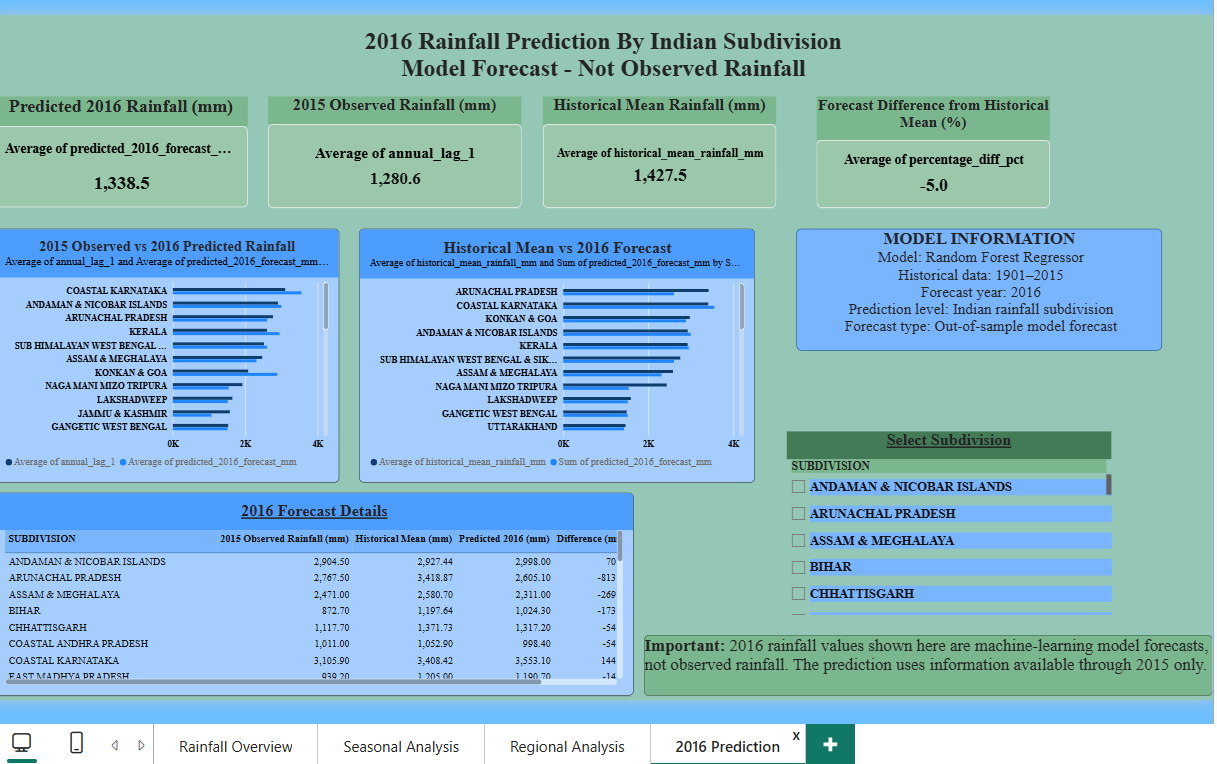

The page's visual inventory and layout, read from the dashboard file:
{"tool":"powerbi","page":{"name":"2016 Prediction","canvas":[1920,1080],"ordinal":3},"visuals":[{"type":"textbox","box":[0,0,1920,120],"z":0},{"type":"cardVisual","title":"Predicted 2016 Rainfall (mm)","fields":{"Data":["Avg(forecast_2016.predicted_2016_forecast_mm)"]},"box":[0,128,400,176],"z":1000},{"type":"cardVisual","title":"2015 Observed Rainfall (mm)","fields":{"Data":["Avg(forecast_2016.annual_lag_1)"]},"box":[432,128,400,176],"z":2000},{"type":"clusteredBarChart","title":"2015 Observed vs 2016 Predicted Rainfall","fields":{"Category":["forecast_2016.SUBDIVISION"],"Y":["Avg(forecast_2016.annual_lag_1)","Avg(forecast_2016.predicted_2016_forecast_mm)"]},"box":[0,336,544,400],"z":3000},{"type":"cardVisual","title":"Historical Mean Rainfall (mm)","fields":{"Data":["Avg(forecast_2016.historical_mean_rainfall_mm)"]},"box":[864,128,368,176],"z":4000},{"type":"cardVisual","title":"Forecast Difference from Historical Mean (%)","fields":{"Data":["Avg(forecast_2016.percentage_diff_pct)"]},"box":[1296,128,368,176],"z":5000},{"type":"clusteredBarChart","title":"Historical Mean vs 2016 Forecast","fields":{"Category":["forecast_2016.SUBDIVISION"],"Y":["Avg(forecast_2016.historical_mean_rainfall_mm)","Sum(forecast_2016.predicted_2016_forecast_mm)"]},"box":[576,336,624,400],"z":6000},{"type":"tableEx","title":"2016 Forecast Details","fields":{"Values":["forecast_2016.SUBDIVISION","forecast_2016.annual_lag_1","forecast_2016.historical_mean_rainfall_mm","forecast_2016.predicted_2016_forecast_mm","forecast_2016.diff_from_historical_mean_mm","forecast_2016.percentage_diff_pct"]},"box":[0,752,1008,320],"z":7000},{"type":"textbox","box":[1024,752,448,112],"z":7001},{"type":"textbox","box":[1264,336,576,192],"z":7002},{"type":"textbox","box":[1024,976,896,96],"z":7003},{"type":"slicer","title":"Select Subdivision","fields":{"Values":["forecast_2016.SUBDIVISION"]},"box":[1248,656,512,288],"z":7004}]}

Visuals, with their boxes on the page's 1920x1080 design canvas (x1, y1, x2, y2). These are canvas units, not pixel positions in the 1217x764 screenshot, which may show the page scaled, cropped or inside an application window:
textbox: 0:0:1920:120
"Predicted 2016 Rainfall (mm)" cardVisual: 0:128:400:304
"2015 Observed Rainfall (mm)" cardVisual: 432:128:832:304
"2015 Observed vs 2016 Predicted Rainfall" clusteredBarChart: 0:336:544:736
"Historical Mean Rainfall (mm)" cardVisual: 864:128:1232:304
"Forecast Difference from Historical Mean (%)" cardVisual: 1296:128:1664:304
"Historical Mean vs 2016 Forecast" clusteredBarChart: 576:336:1200:736
"2016 Forecast Details" tableEx: 0:752:1008:1072
textbox: 1024:752:1472:864
textbox: 1264:336:1840:528
textbox: 1024:976:1920:1072
"Select Subdivision" slicer: 1248:656:1760:944
